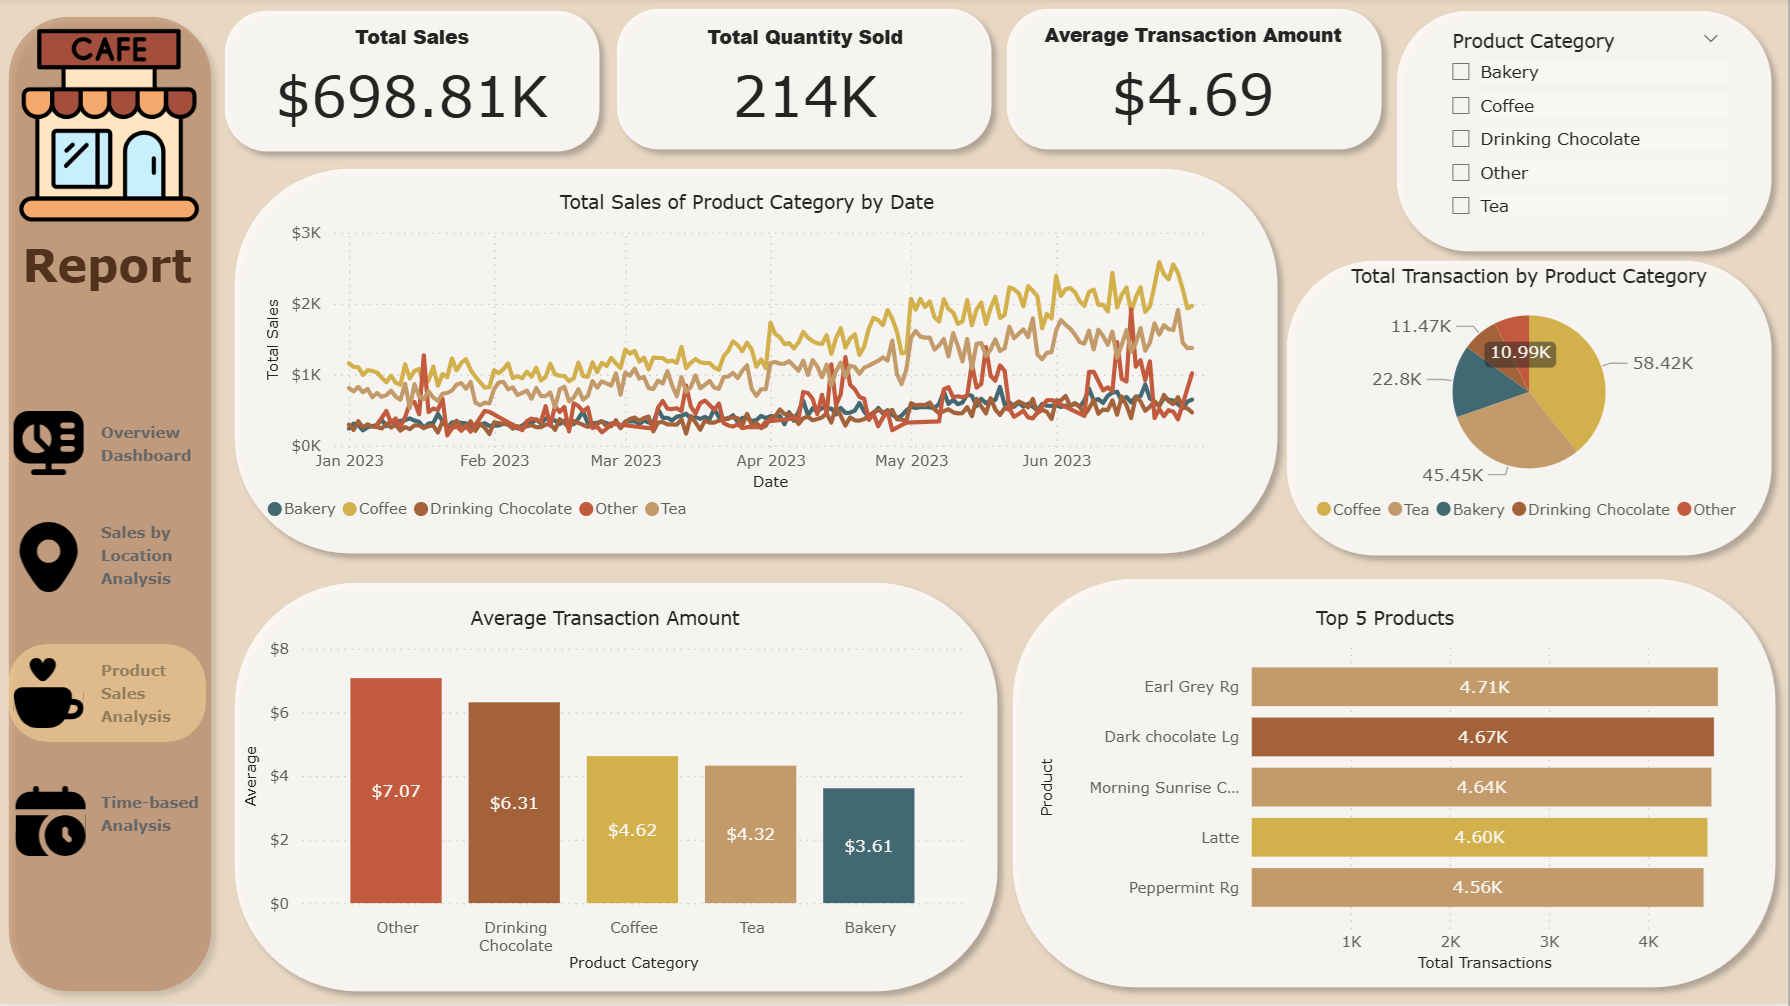

Layout of this report page (visuals, bound fields, positions):
{"tool":"powerbi","page":{"name":"Product Insight","canvas":[1280,720],"ordinal":3},"visuals":[{"type":"shape","box":[161.4,410,563,310],"z":0},{"type":"shape","box":[717.1,407.1,562.9,310],"z":1000},{"type":"shape","box":[912.9,180,364.3,228.6],"z":2000},{"type":"shape","box":[161.4,114.3,762.9,292.9],"z":3000},{"type":"shape","box":[991.4,1.4,285.7,190],"z":4000},{"type":"shape","box":[712.1,0,285.7,118.6],"z":5000},{"type":"shape","box":[434.3,0,285.7,118.6],"z":6000},{"type":"shape","box":[154.3,1.4,285.7,118.6],"z":7000},{"type":"barChart","title":"Top 5 Products","fields":{"Category":["Transactions.product_detail"],"Y":["Sum(Transactions.transaction_qty)"],"Series":["Transactions.Product Category"]},"box":[741.4,435.7,501.4,265.7],"z":8000},{"type":"pieChart","title":"Total Transaction by Product Category","fields":{"Y":["Count(Transactions.transaction_id)"],"Category":["Transactions.product_category (groups)"]},"box":[912.9,191.4,364.3,192.9],"z":9000},{"type":"slicer","fields":{"Values":["Transactions.Product Category"]},"box":[1027.1,18.6,215.7,172.9],"z":10000},{"type":"card","title":"Total Sales","fields":{"Values":["Sum(Transactions.total_sales)"]},"box":[185.7,20,222.9,82.9],"z":11000},{"type":"card","title":"Total Quantity Sold","fields":{"Values":["Sum(Transactions.transaction_qty)"]},"box":[497.1,20,161.4,82.9],"z":12000},{"type":"columnChart","title":"Average Transaction Amount","fields":{"Y":["Transactions.Średnia Wartość Transakcji"],"Category":["Transactions.Product Category"],"Series":["Transactions.Product Category"]},"box":[172.9,435.7,524.3,265.7],"z":13000},{"type":"lineChart","title":"Total Sales of Product Category by Date ","fields":{"Series":["Transactions.Product Category"],"Category":["Transactions.transaction_date.Variation.Date Hierarchy.Year"],"Y":["Sum(Transactions.total_sales)"]},"box":[188.6,138.6,695.7,245.7],"z":14000},{"type":"card","title":"Average Transaction Amount","fields":{"Values":["Transactions.Średnia Wartość Transakcji"]},"box":[741.4,18.6,227.1,82.9],"z":15000},{"type":"shape","box":[0,5.7,162.9,714.3],"z":16000},{"type":"textbox","box":[70,297.1,84.3,47.1],"z":17000},{"type":"textbox","box":[70,368.6,80,84.3],"z":18000},{"type":"textbox","box":[70,467.1,85.7,67.1],"z":19000},{"type":"textbox","box":[70,561.4,88.6,55.7],"z":20000},{"type":"actionButton","box":[8.6,284.7,141.4,70],"z":21000},{"type":"actionButton","box":[8.6,366.1,141.4,70],"z":22000},{"type":"actionButton","box":[8.6,463.3,141.4,70],"z":23000},{"type":"actionButton","box":[10,554.3,141.4,70],"z":24000},{"type":"image","box":[5.7,17.1,150,150],"z":25000},{"type":"textbox","box":[7.1,167.1,144.3,80],"z":26000}]}

Visuals, with their boxes in screenshot pixels (x1, y1, x2, y2), scaled from the page's 1280x720 canvas onto the 1790x1006 screenshot:
shape: <bbox>226, 573, 1013, 1005</bbox>
shape: <bbox>1003, 569, 1789, 1002</bbox>
shape: <bbox>1277, 252, 1786, 571</bbox>
shape: <bbox>226, 160, 1293, 569</bbox>
shape: <bbox>1386, 2, 1786, 267</bbox>
shape: <bbox>996, 0, 1395, 166</bbox>
shape: <bbox>607, 0, 1007, 166</bbox>
shape: <bbox>216, 2, 615, 168</bbox>
"Top 5 Products" barChart: <bbox>1037, 609, 1738, 980</bbox>
"Total Transaction by Product Category" pieChart: <bbox>1277, 267, 1786, 537</bbox>
slicer - Transactions.Product Category: <bbox>1436, 26, 1738, 268</bbox>
"Total Sales" card: <bbox>260, 28, 571, 144</bbox>
"Total Quantity Sold" card: <bbox>695, 28, 921, 144</bbox>
"Average Transaction Amount" columnChart: <bbox>242, 609, 975, 980</bbox>
"Total Sales of Product Category by Date " lineChart: <bbox>264, 194, 1237, 537</bbox>
"Average Transaction Amount" card: <bbox>1037, 26, 1354, 142</bbox>
shape: <bbox>0, 8, 228, 1005</bbox>
textbox: <bbox>98, 415, 216, 481</bbox>
textbox: <bbox>98, 515, 210, 633</bbox>
textbox: <bbox>98, 653, 218, 746</bbox>
textbox: <bbox>98, 784, 222, 862</bbox>
actionButton: <bbox>12, 398, 210, 496</bbox>
actionButton: <bbox>12, 512, 210, 609</bbox>
actionButton: <bbox>12, 647, 210, 745</bbox>
actionButton: <bbox>14, 774, 212, 872</bbox>
image: <bbox>8, 24, 218, 233</bbox>
textbox: <bbox>10, 233, 212, 345</bbox>
